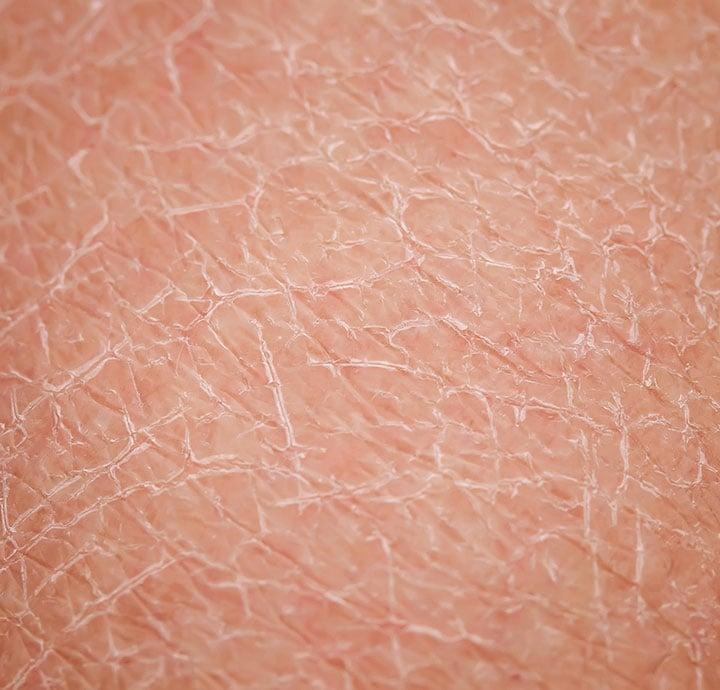Dry-Skin: (25, 17, 651, 690)
